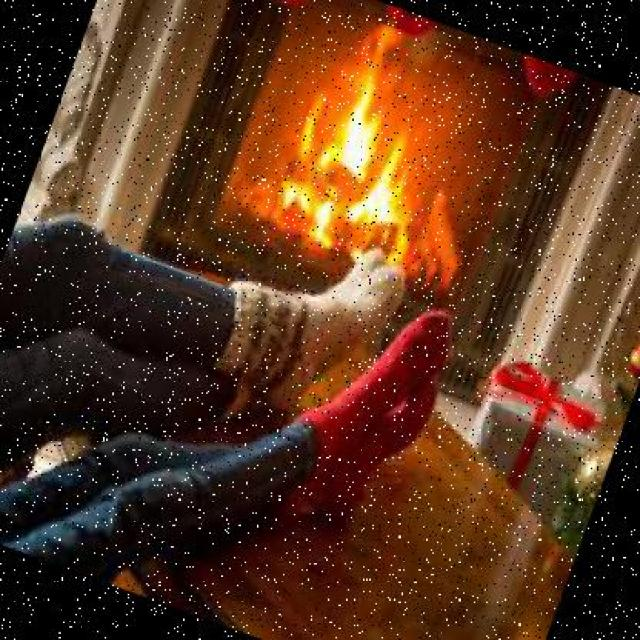fire: (250, 31, 544, 306)
